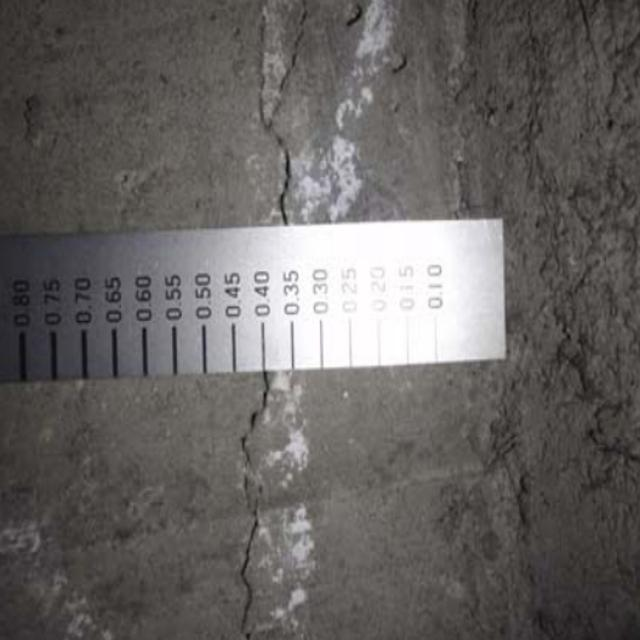crack: (207, 377, 283, 640), (244, 10, 329, 227)
